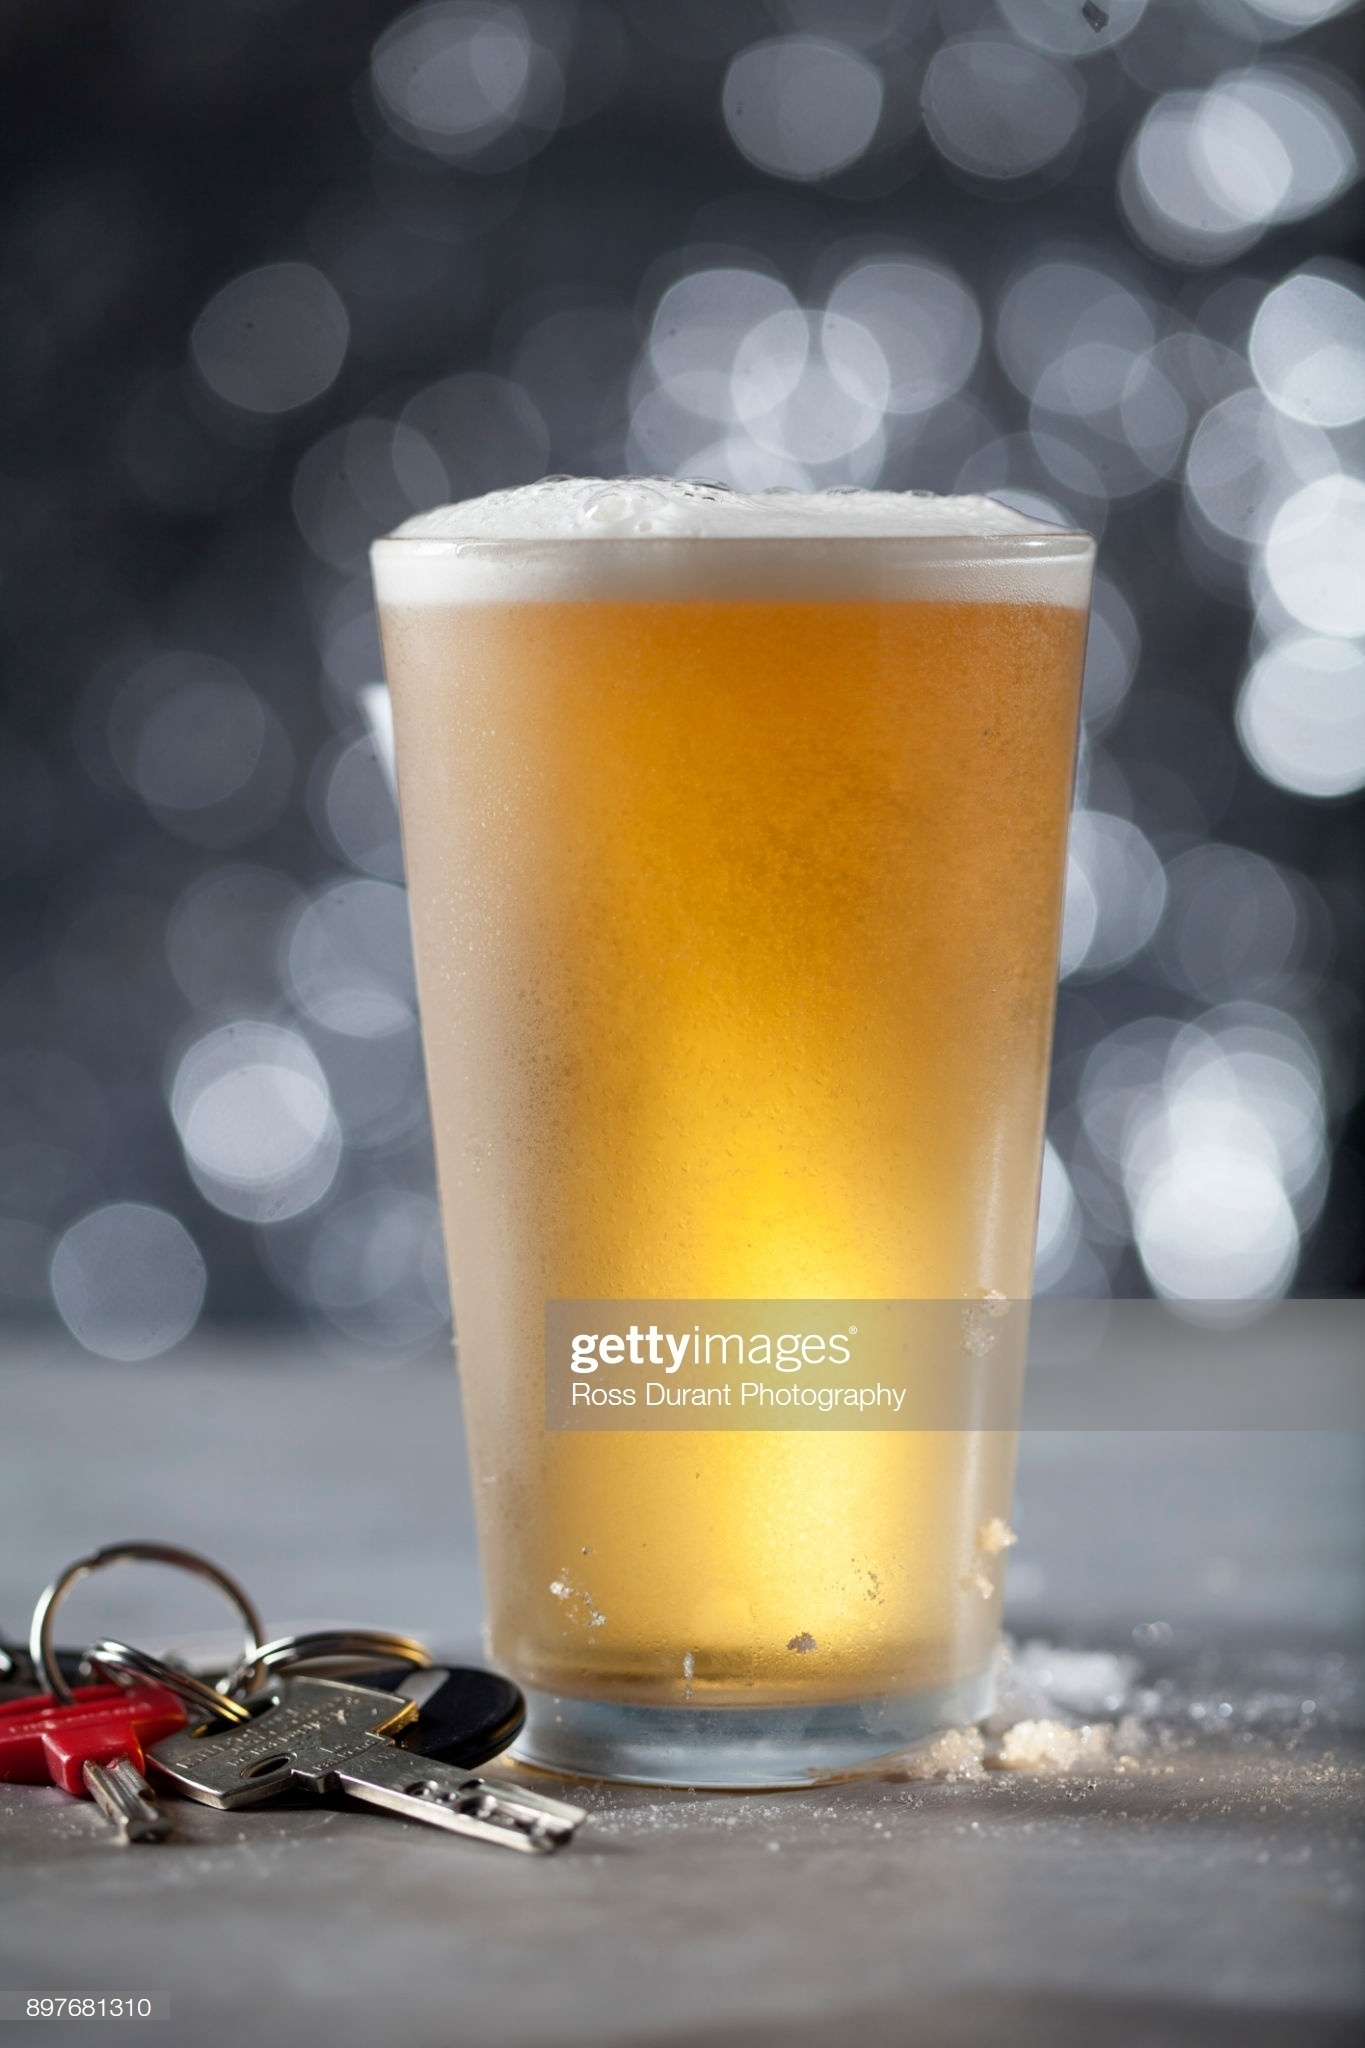whiskey: (376, 504, 1124, 1751)
